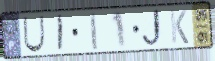1: (110, 9, 128, 51)
I: (88, 11, 99, 52), (56, 13, 65, 53)
J: (141, 8, 165, 49)
K: (169, 9, 190, 46)
U: (21, 15, 46, 55)
